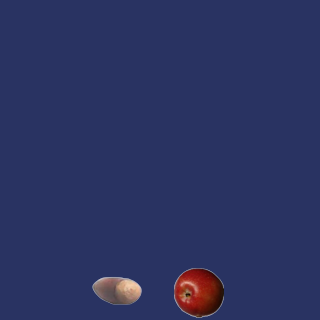Apple Braeburn: (173, 267, 223, 317)
Hazelnut: (91, 265, 141, 315)
